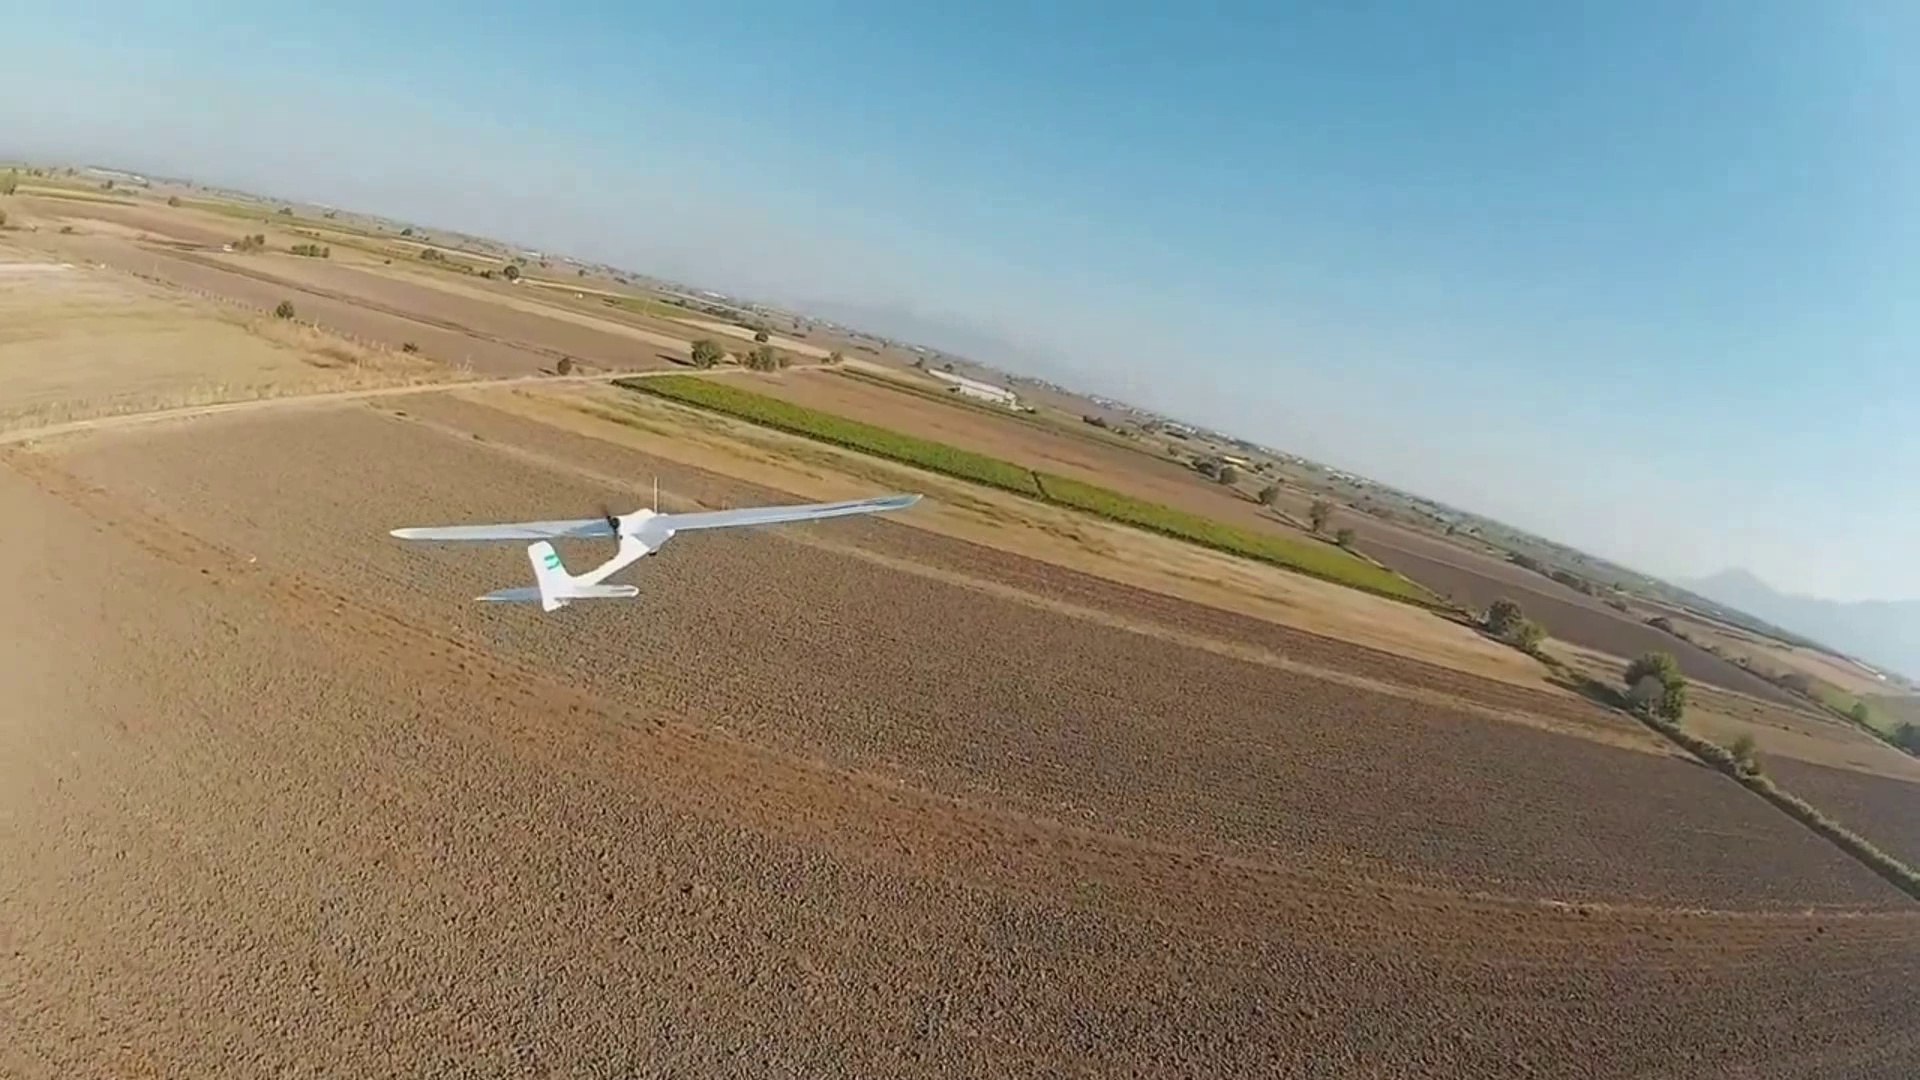airplane: (386, 502, 928, 615)
